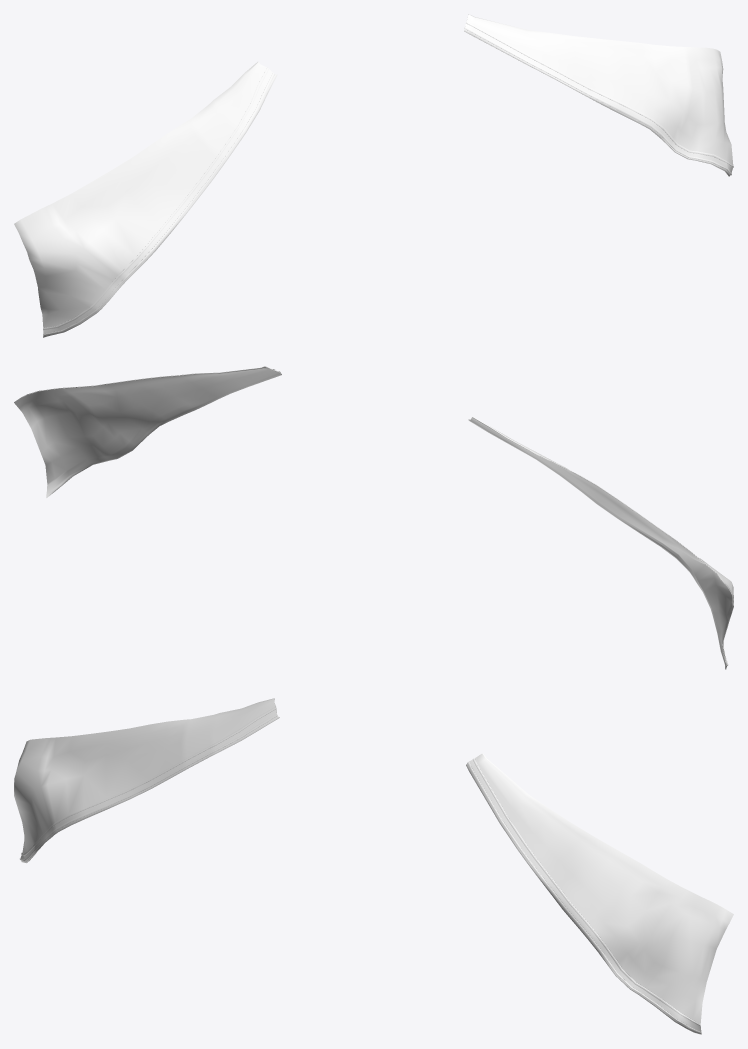
Rendered from Jac_Decor_Top_V2.glb.
The picture shows the model from 3 angles, top to bottom: view 1: azimuth 30°, elevation 25°; view 2: azimuth 150°, elevation 25°; view 3: azimuth 330°, elevation 25°; orthographic projection.
Visible parts, largest first — view 1: Jac_Decor_TOP_FACE.001, Jac_Rope_Decor_TOP_FACE.001; view 2: Jac_Decor_TOP_FACE.001; view 3: Jac_Decor_TOP_FACE.001, Jac_Rope_Decor_TOP_FACE.001.
Part boxes in pixels (x1,y1,x2,y2): Jac_Decor_TOP_FACE.001: (14, 14, 733, 337); Jac_Rope_Decor_TOP_FACE.001: (43, 22, 733, 335); Jac_Decor_TOP_FACE.001: (14, 366, 733, 669); Jac_Decor_TOP_FACE.001: (14, 698, 733, 1034); Jac_Rope_Decor_TOP_FACE.001: (20, 706, 701, 1033).
Size of the model in its own units: 0.7188 by 0.2021 by 0.0772.
2 materials, 2 textured.
